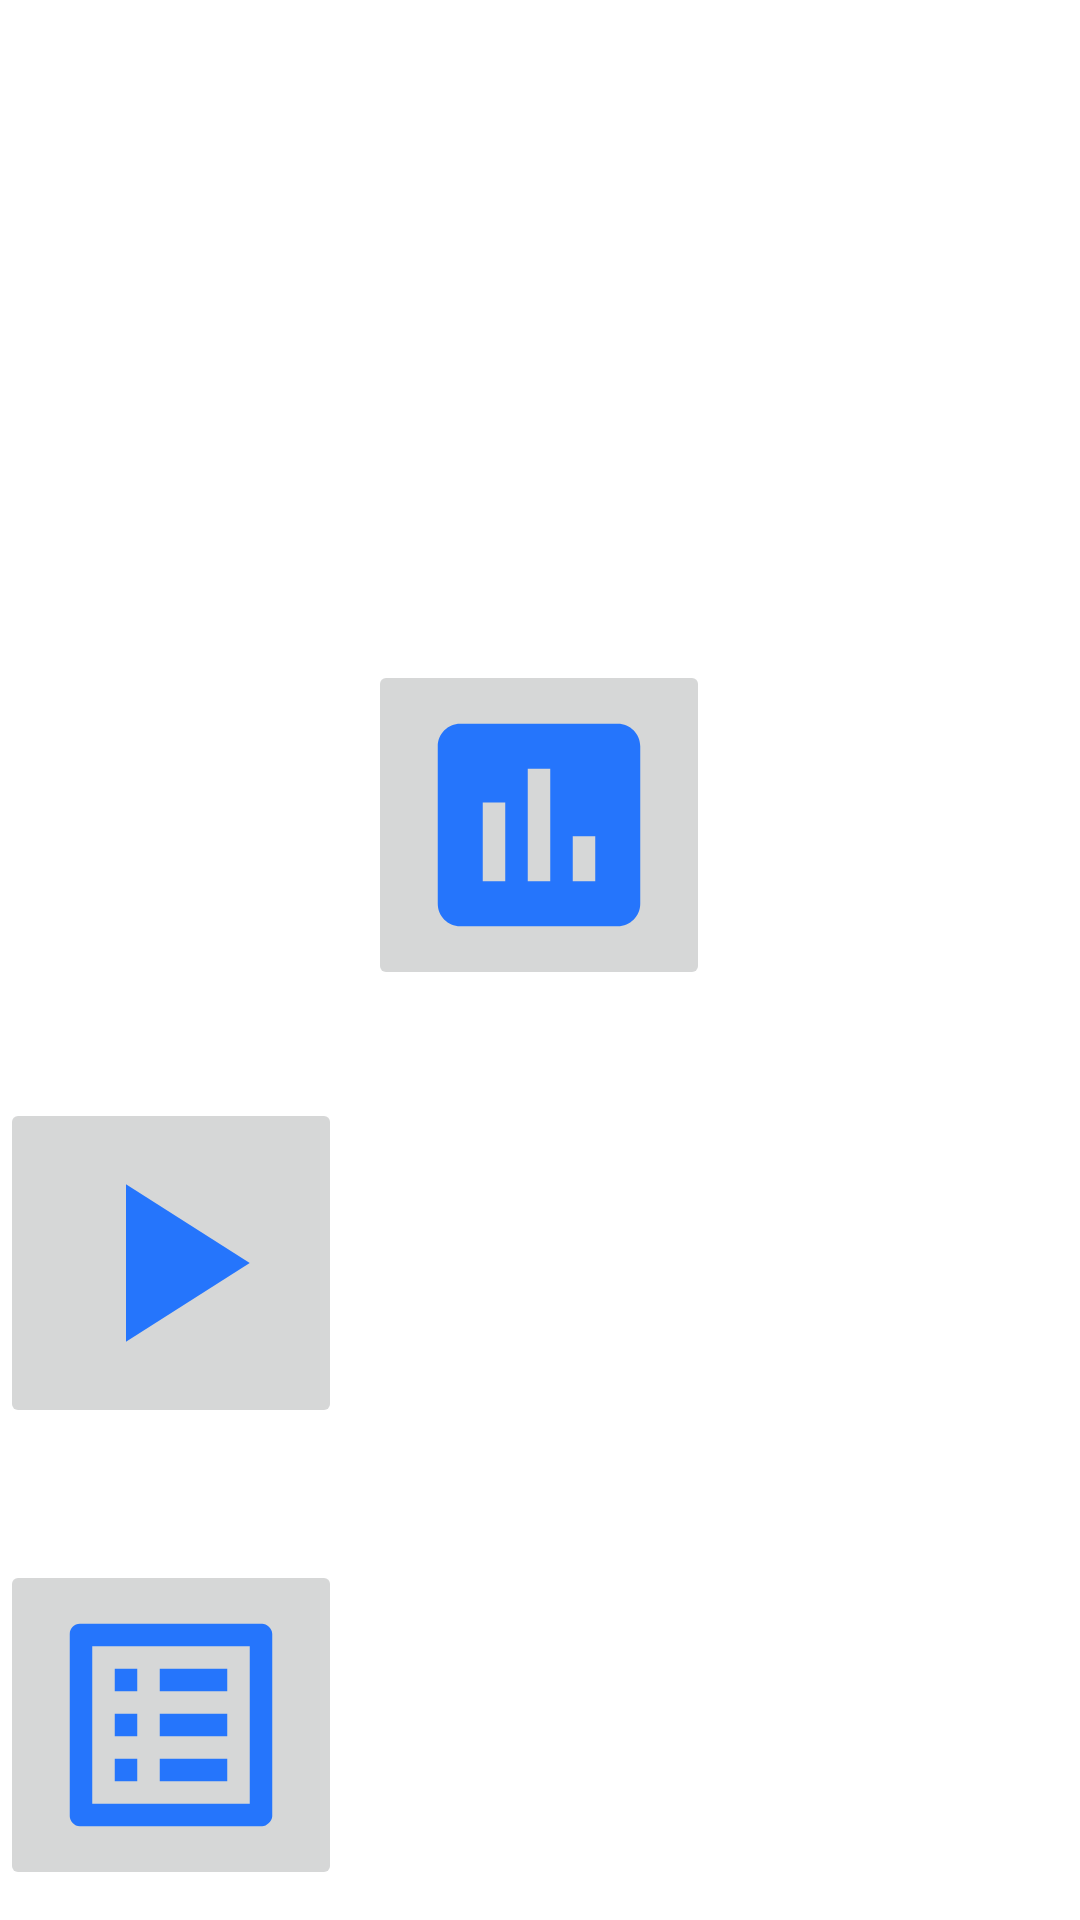

Icon click points for this 1080*1920 phone screenshot, format (x=x, y=y):
insert chart: (x=539, y=825)
list: (x=171, y=1725)
play arrow: (x=171, y=1263)
